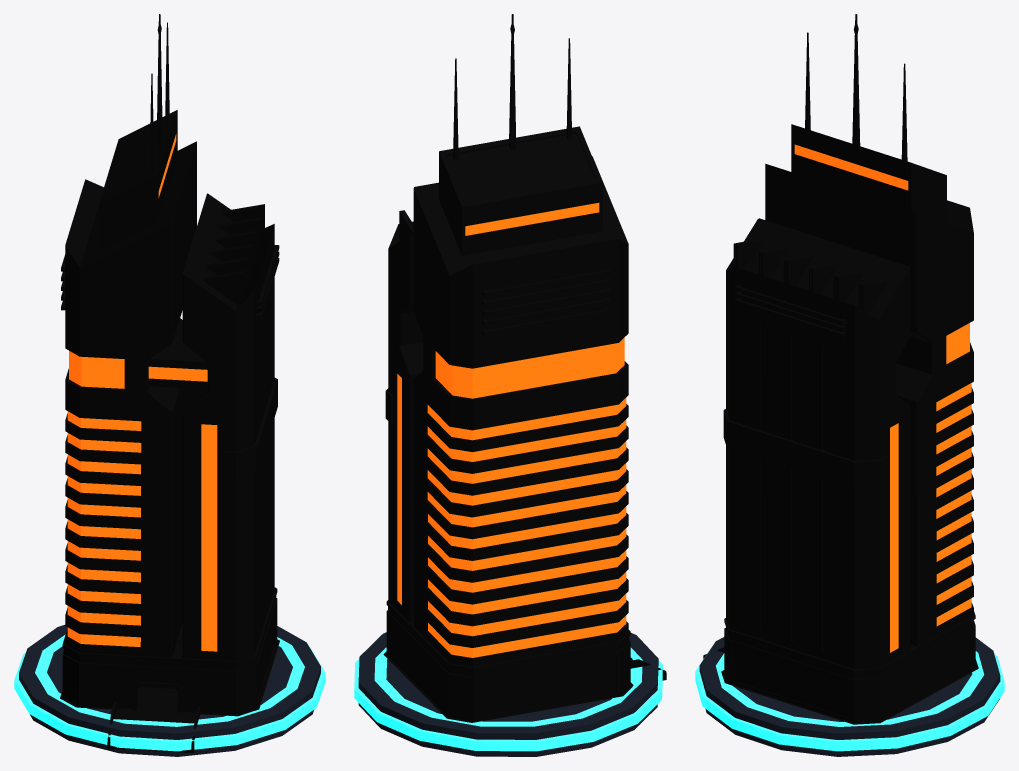
The model's file is House6.fbx.
3 renders of one model, left to right at view 1: azimuth 30°, elevation 25°; view 2: azimuth 150°, elevation 25°; view 3: azimuth 270°, elevation 25°, orthographic.
Parts seen in each view (by area): view 1: House6; view 2: House6; view 3: House6.
Part boxes in pixels (left/top/right/bottom): House6: left=14, top=14, right=325, bottom=756; House6: left=354, top=14, right=666, bottom=756; House6: left=695, top=14, right=1004, bottom=756.
Size of the model in its own units: 3090 by 7582 by 3090.
